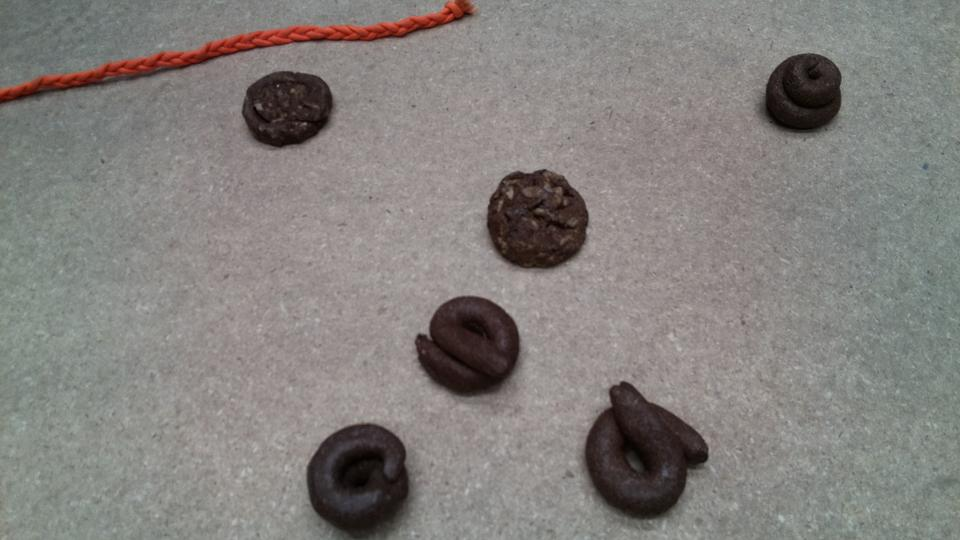poop: (581, 376, 710, 522), (304, 418, 412, 534), (484, 166, 595, 273), (412, 293, 524, 397), (239, 68, 337, 149), (762, 49, 846, 136)
rope: (1, 1, 479, 106)
